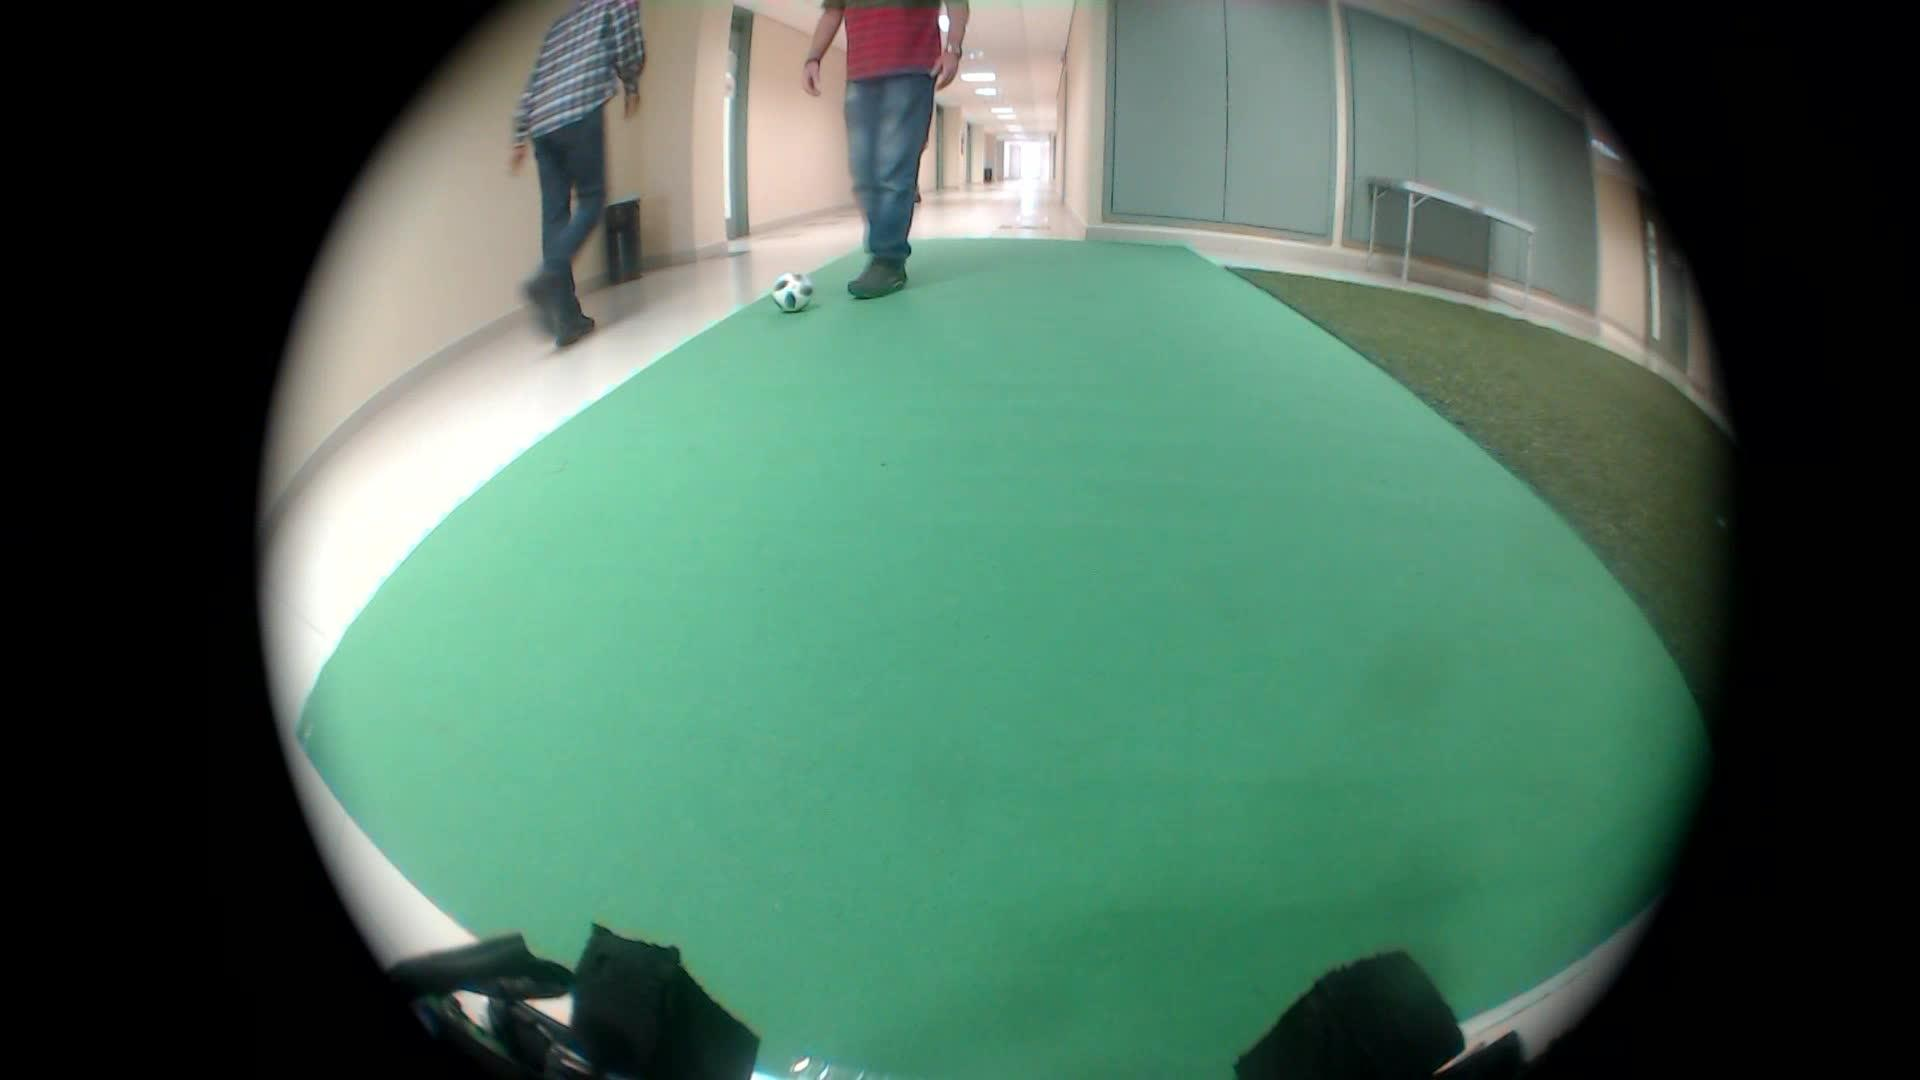ball: (771, 256, 818, 316)
